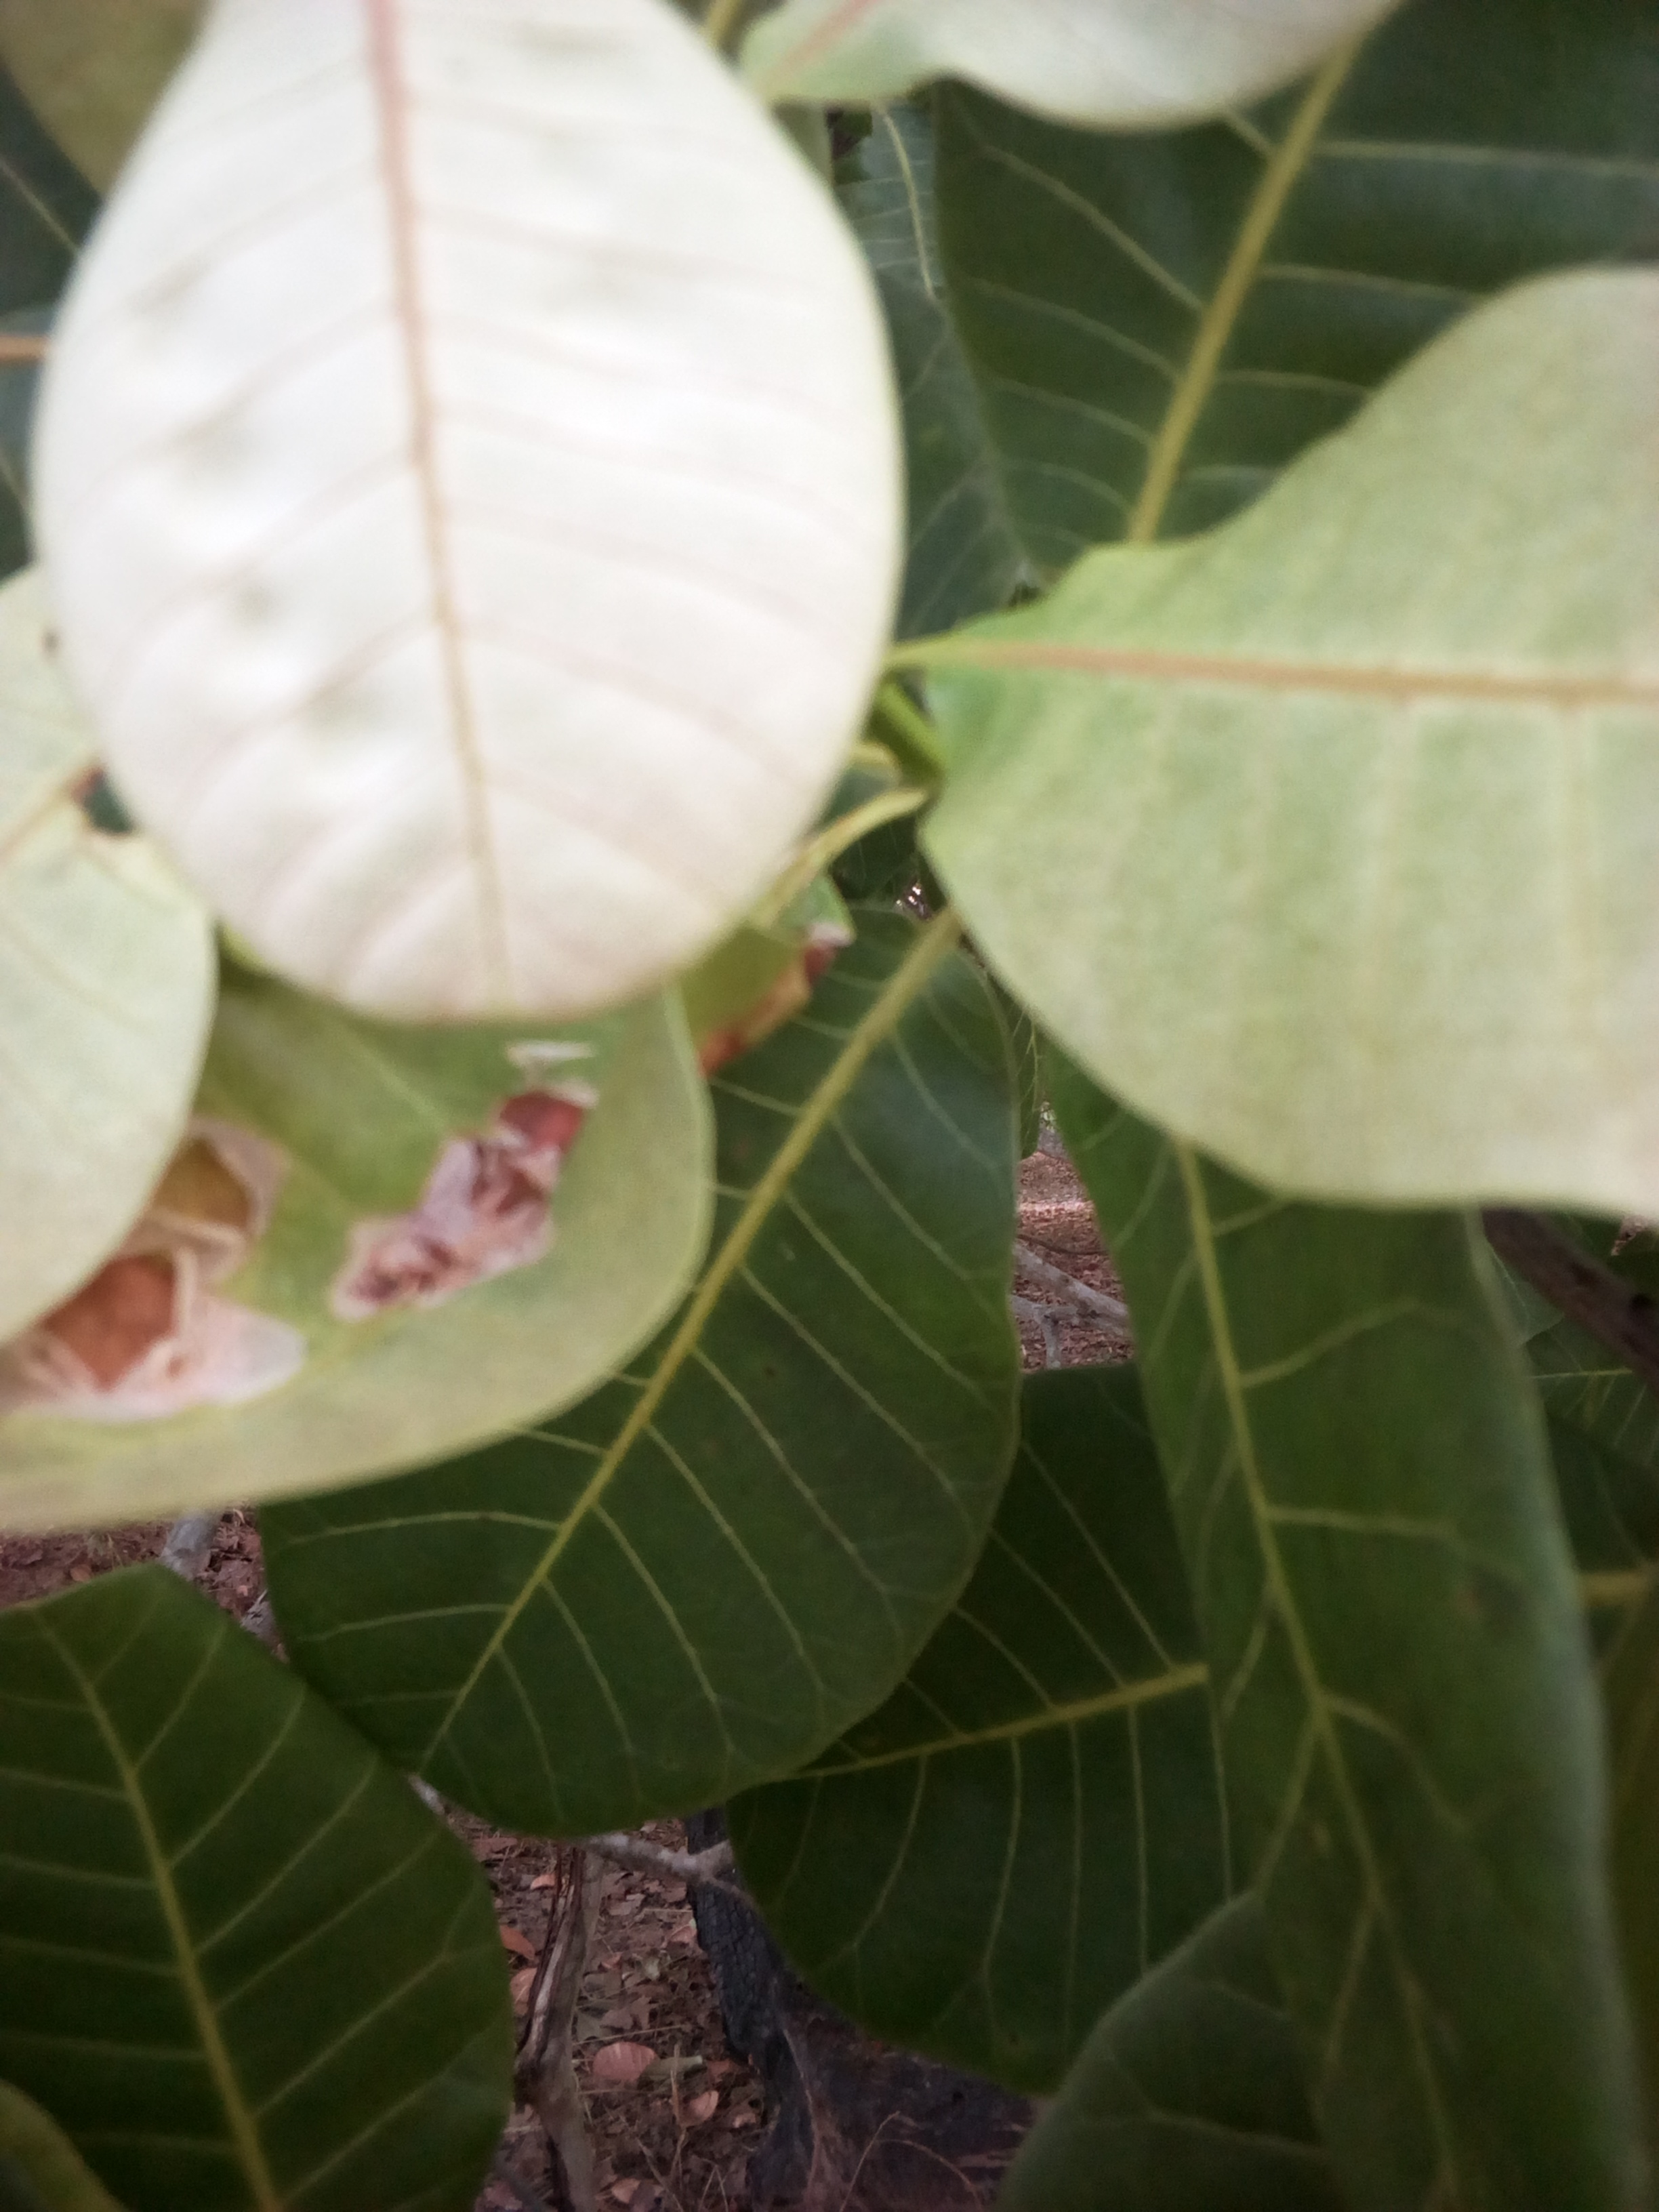Dysdercus wolkerii: (28, 827, 779, 1554)
